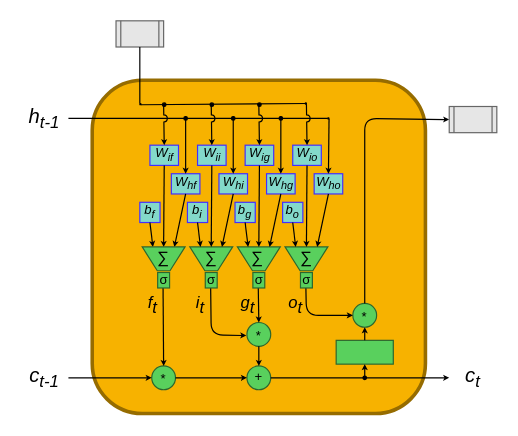
Some shapes in this 518 by 436 pixel diagram are drawn without their labels. Here are the shapes that lost their labels. From the top down, the box of each, then its label:
(115, 20, 164, 47): x t
(448, 105, 497, 133): h t
(335, 339, 393, 364): tanh
